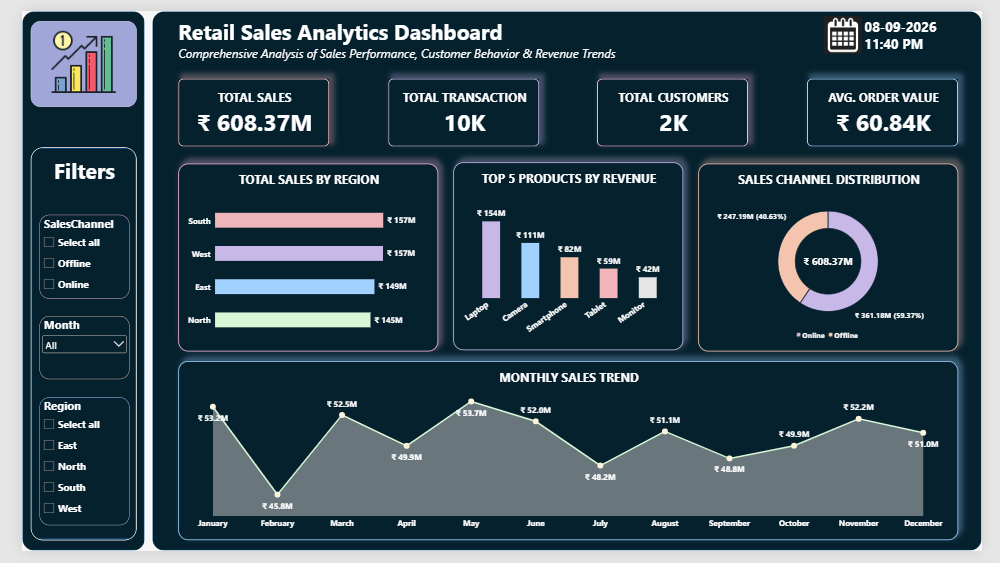

This screenshot's page, from the dashboard's own definition file:
{"tool":"powerbi","page":{"name":"Sales Dashboard","canvas":[1920,1080],"ordinal":0},"visuals":[{"type":"shape","box":[0,0,246,1080],"z":0},{"type":"shape","box":[260,0,1660,1080],"z":1000},{"type":"cardVisual","fields":{"Data":["All_Visuals.TOTAL SALES"]},"box":[312,136,302,136],"z":2000},{"type":"cardVisual","fields":{"Data":["All_Visuals.TOTAL TRANSACTION"]},"box":[731.3,136,302,136],"z":3000},{"type":"cardVisual","fields":{"Data":["All_Visuals.TOTAL CUSTOMERS"]},"box":[1150.7,136,302,136],"z":4000},{"type":"cardVisual","fields":{"Data":["All_Visuals.AVERAGE ORDER VALUE"]},"box":[1570,136,302,136],"z":5000},{"type":"clusteredBarChart","title":"TOTAL SALES BY REGION","fields":{"Category":["retail_transactions_db.Region"],"Y":["All_Visuals.TOTAL SALES"]},"box":[312.1,304.3,520,375.7],"z":6000},{"type":"clusteredColumnChart","title":"TOP 5 PRODUCTS BY REVENUE","fields":{"Category":["retail_transactions_db.ProductName"],"Y":["All_Visuals.PRODUCT REVENUE"]},"box":[861.7,303.3,460,375.7],"z":7000},{"type":"lineChart","title":"MONTHLY SALES TREND","fields":{"Category":["retail_transactions_db.Date.Variation.Date Hierarchy.Year","retail_transactions_db.Date.Variation.Date Hierarchy.Quarter","retail_transactions_db.Date.Variation.Date Hierarchy.Month","retail_transactions_db.Date.Variation.Date Hierarchy.Day"],"Y":["All_Visuals.TOTAL SALES"]},"box":[312,700,1560,358],"z":8000},{"type":"donutChart","title":"SALES CHANNEL DISTRIBUTION","fields":{"Category":["retail_transactions_db.SalesChannel"],"Y":["All_Visuals.TOTAL SALES"]},"box":[1352.1,304.3,520,375.7],"z":9000},{"type":"textbox","box":[311.7,11.7,698.3,60.8],"z":10000},{"type":"textbox","box":[311.9,66.2,898.1,40],"z":11000},{"type":"image","box":[1598,10,88,76],"z":12000},{"type":"textbox","box":[1686,12,186,94],"z":13000},{"type":"shape","box":[18,272,212,786],"z":14000},{"type":"image","box":[17.3,19.5,212,172],"z":15000},{"type":"slicer","fields":{"Values":["retail_transactions_db.SalesChannel"]},"box":[34,408,180,168],"z":16000},{"type":"slicer","fields":{"Values":["retail_transactions_db.Date.Variation.Date Hierarchy.Month"]},"box":[34,610,180,126],"z":17000},{"type":"slicer","fields":{"Values":["retail_transactions_db.Region"]},"box":[34,772,180,256],"z":18000},{"type":"textbox","box":[34,290,180,62],"z":19000}]}

Visuals, with their boxes in screenshot pixels (x1, y1, x2, y2), scaled from the page's 1920x1080 canvas onto the 1000x563 screenshot:
shape: x1=0, y1=0, x2=128, y2=562
shape: x1=135, y1=0, x2=999, y2=562
cardVisual - All_Visuals.TOTAL SALES: x1=162, y1=71, x2=320, y2=142
cardVisual - All_Visuals.TOTAL TRANSACTION: x1=381, y1=71, x2=538, y2=142
cardVisual - All_Visuals.TOTAL CUSTOMERS: x1=599, y1=71, x2=757, y2=142
cardVisual - All_Visuals.AVERAGE ORDER VALUE: x1=818, y1=71, x2=975, y2=142
"TOTAL SALES BY REGION" clusteredBarChart: x1=163, y1=159, x2=433, y2=354
"TOP 5 PRODUCTS BY REVENUE" clusteredColumnChart: x1=449, y1=158, x2=688, y2=354
"MONTHLY SALES TREND" lineChart: x1=162, y1=365, x2=975, y2=552
"SALES CHANNEL DISTRIBUTION" donutChart: x1=704, y1=159, x2=975, y2=354
textbox: x1=162, y1=6, x2=526, y2=38
textbox: x1=162, y1=35, x2=630, y2=55
image: x1=832, y1=5, x2=878, y2=45
textbox: x1=878, y1=6, x2=975, y2=55
shape: x1=9, y1=142, x2=120, y2=552
image: x1=9, y1=10, x2=119, y2=100
slicer - retail_transactions_db.SalesChannel: x1=18, y1=213, x2=111, y2=300
slicer - retail_transactions_db.Date.Variation.Date Hierarchy.Month: x1=18, y1=318, x2=111, y2=384
slicer - retail_transactions_db.Region: x1=18, y1=402, x2=111, y2=536
textbox: x1=18, y1=151, x2=111, y2=183
